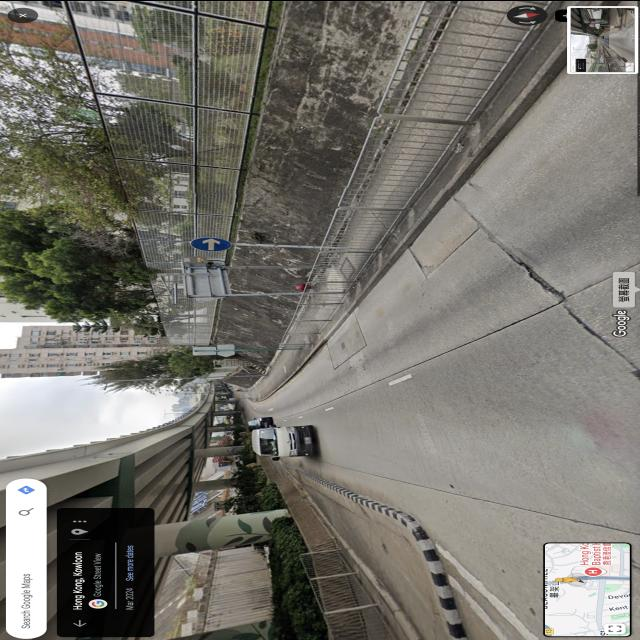Order-Sign: (191, 237, 230, 250)
